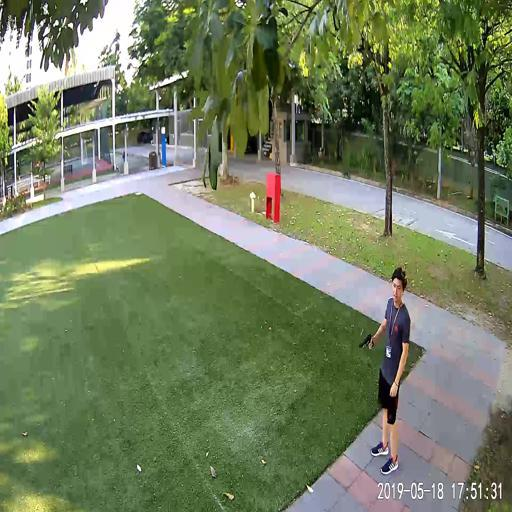Handgun: (357, 331, 373, 348)
